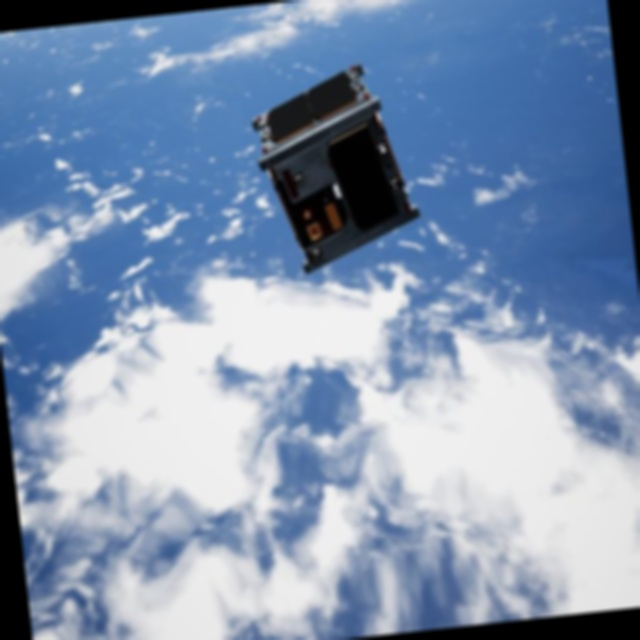medium_debris: (239, 52, 430, 282)
